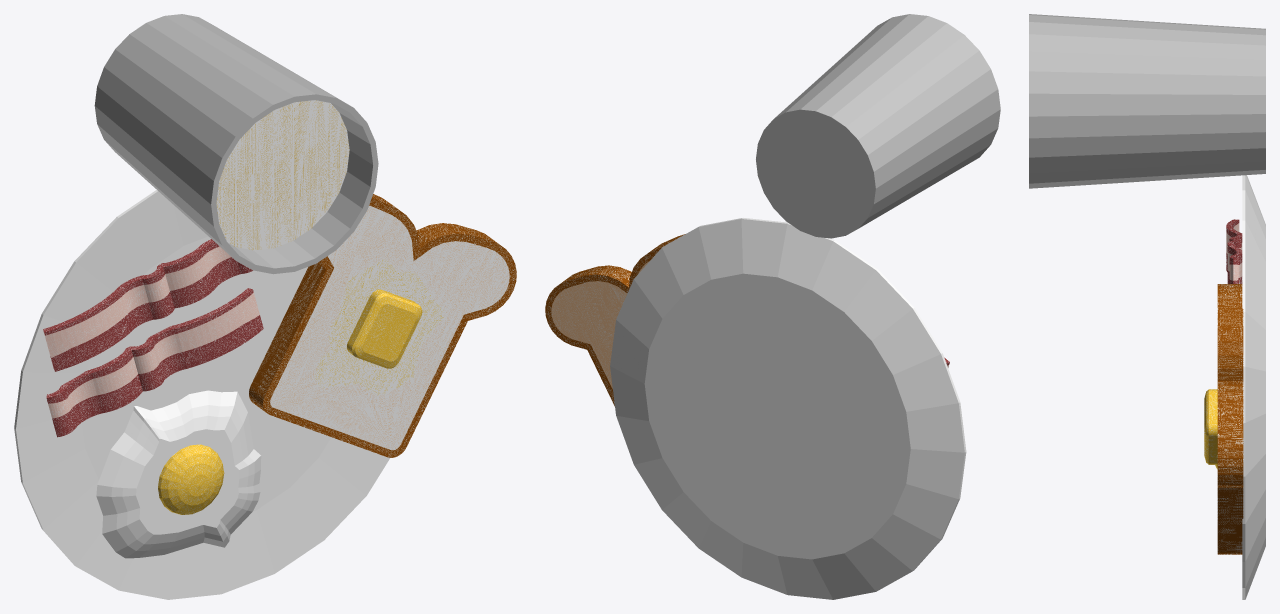
3 views of the same model, side by side, from view 1: azimuth 30°, elevation 25°; view 2: azimuth 150°, elevation 25°; view 3: azimuth 270°, elevation 25° (orthographic). The views are drawn at different scales.
Visible parts, largest first — view 1: breakfast plate; view 2: breakfast plate; view 3: breakfast plate.
Boxes of the visible parts, <box> form: breakfast plate: <box>14,14,516,599</box>; breakfast plate: <box>545,14,1000,599</box>; breakfast plate: <box>1029,14,1265,599</box>.
Bounding box in the file's own units: 356 × 415 × 165.
